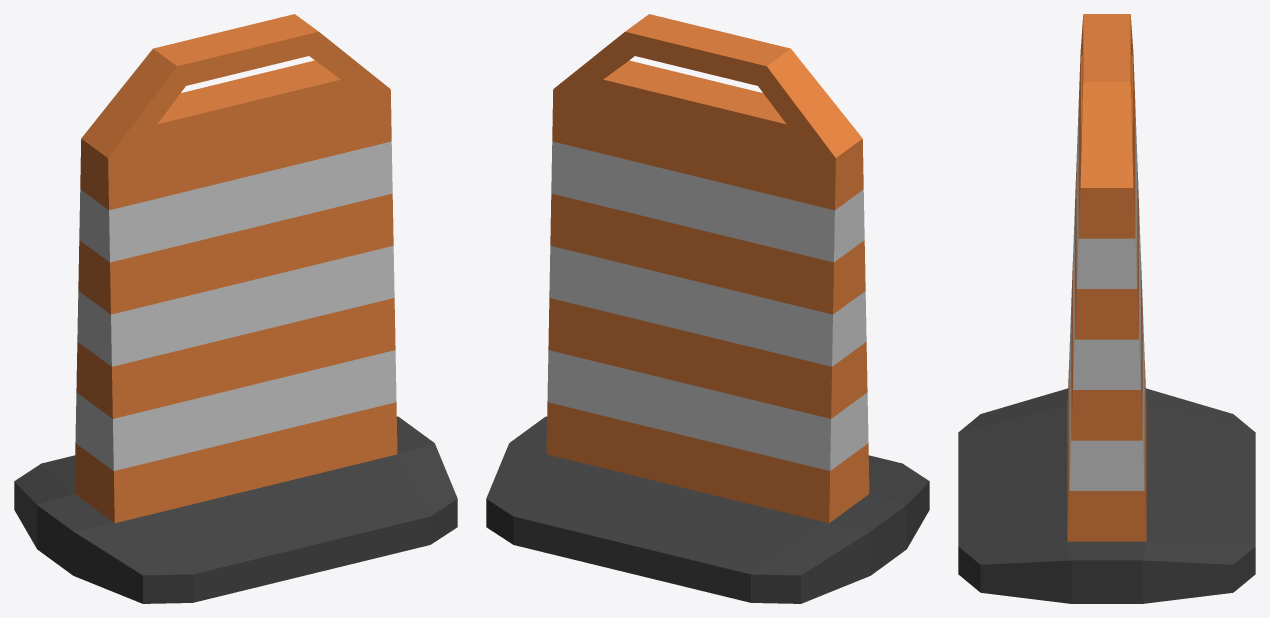
The model's file is env_prop_streetcone2_mesh_01_v1.glb.
3 views of the same model, side by side, from view 1: azimuth 30°, elevation 25°; view 2: azimuth 150°, elevation 25°; view 3: azimuth 270°, elevation 25° (orthographic).
Visible parts, largest first — view 1: Cube.013; view 2: Cube.013; view 3: Cube.013.
Boxes of the visible parts, x1=… form: Cube.013: x1=14, y1=14, x2=457, y2=603; Cube.013: x1=486, y1=14, x2=929, y2=603; Cube.013: x1=958, y1=14, x2=1255, y2=603.
Bounding box in the file's own units: 1.64 × 2.07 × 1.19.
